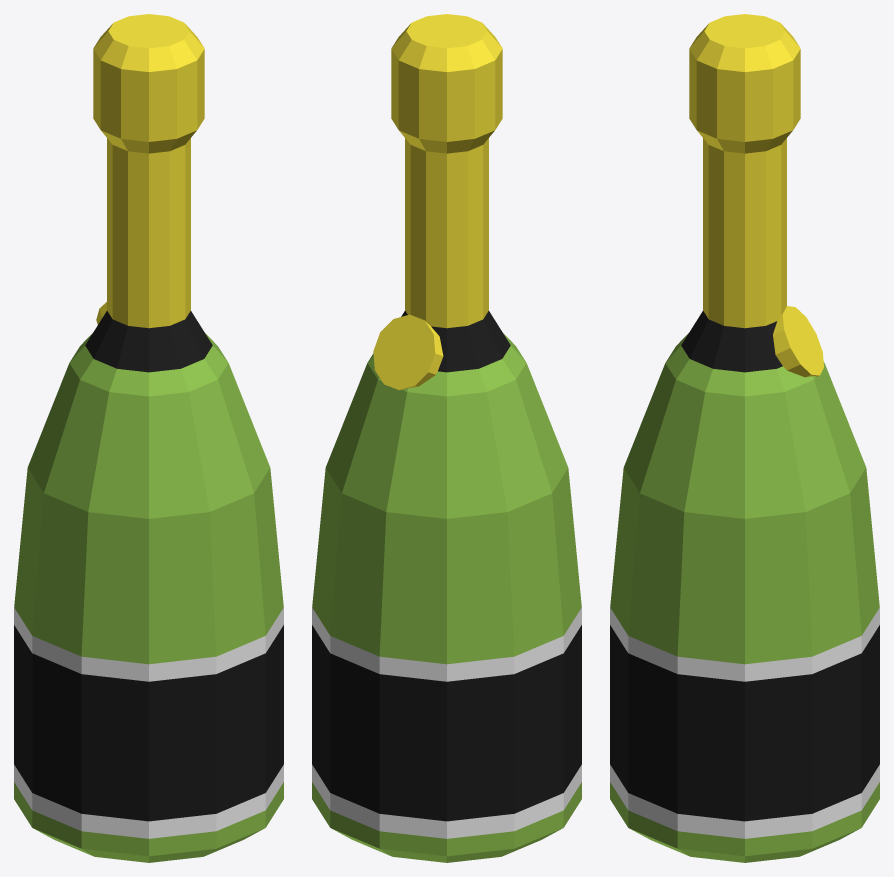
The model's file is bottle-of-champagne-by-jarlan-perez-1gI8Qvs3WYG.glb.
3 views of the same model, side by side, from view 1: azimuth 30°, elevation 25°; view 2: azimuth 150°, elevation 25°; view 3: azimuth 270°, elevation 25° (orthographic).
Parts seen in each view (by area): view 1: Node; view 2: Node; view 3: Node.
Part boxes in pixels (x1=…): Node: x1=14, y1=14, x2=283, y2=862; Node: x1=312, y1=14, x2=581, y2=862; Node: x1=610, y1=14, x2=879, y2=862.
Size of the model in its own units: 0.14 by 0.45 by 0.14.
